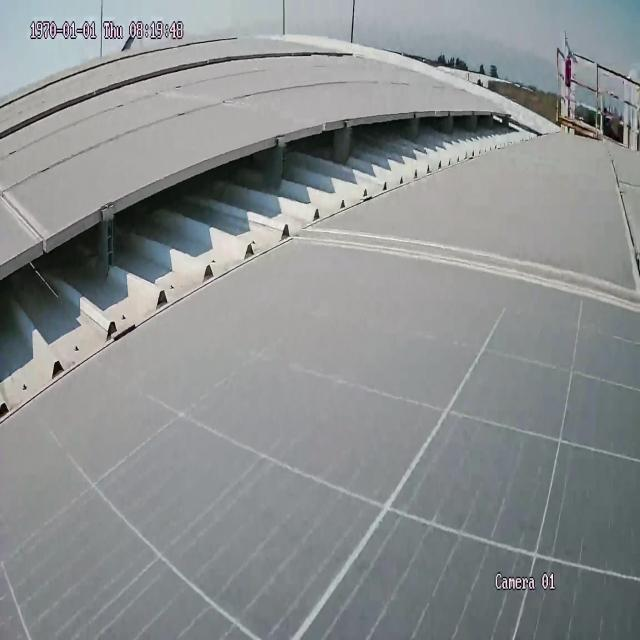outher panel: (304, 109, 552, 257)
